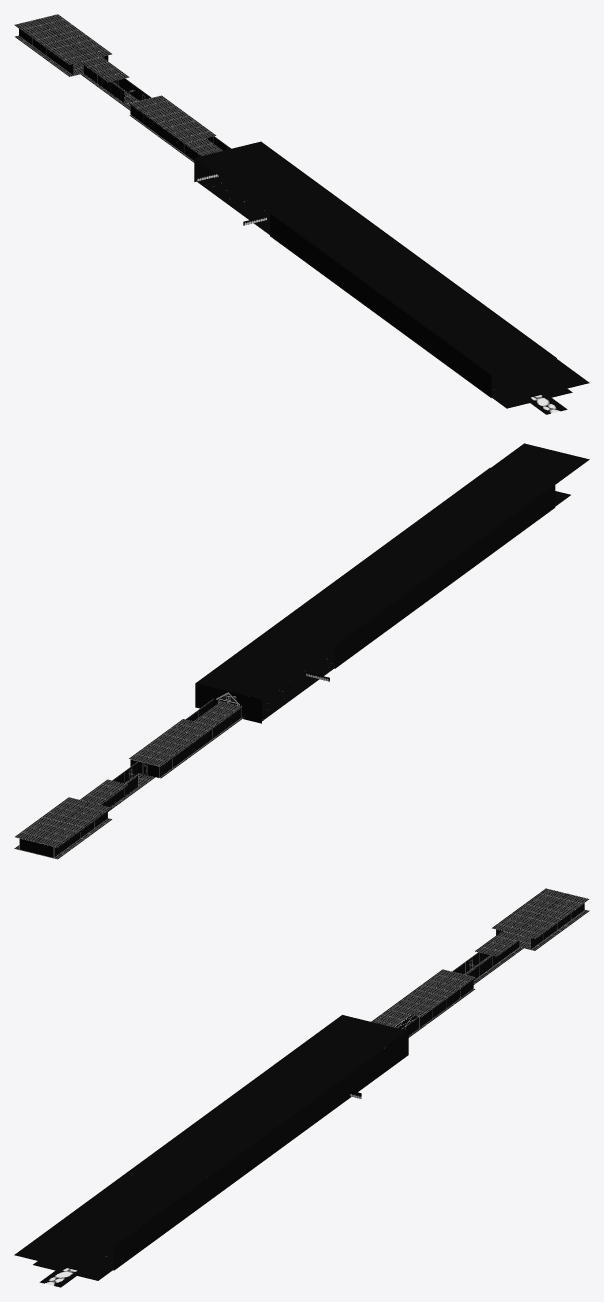
Rendered from Round2.fbx.
3 renders of one model, top to bottom at view 1: azimuth 30°, elevation 25°; view 2: azimuth 150°, elevation 25°; view 3: azimuth 330°, elevation 25°, orthographic.
Visible parts, largest first — view 1: ground_Ceiling, Black, Ceiling, Black001, Wall (×2), floor028; view 2: ground_Ceiling, Black, Ceiling, Black001, Wall (×2), House, floor028; view 3: ground_Ceiling, Black, Ceiling, Wall (×2), floor028, ground_lord, Black001.
Boxes of the visible parts, x1,y1,x2,y2 form: ground_Ceiling: (195,142,589,398); Black: (261,141,556,397); Ceiling: (14,14,222,155); Black001: (197,176,572,408); Wall (×2): (83,65,231,160); floor028: (14,35,219,177); ground_Ceiling: (196,443,589,699); Black: (195,468,555,707); Ceiling: (14,701,242,847); Black001: (262,491,570,720); Wall (×2): (102,699,241,806); House: (195,683,261,723); floor028: (14,717,243,859); ground_Ceiling: (14,1015,407,1270); Black: (49,1016,408,1270); Ceiling: (371,888,589,1026); Wall (×2): (402,940,519,1035); floor028: (383,909,589,1049); ground_lord: (39,1050,381,1287); Black001: (33,1056,404,1280).
Size of the model in its own units: 1326 by 352 by 13661.
